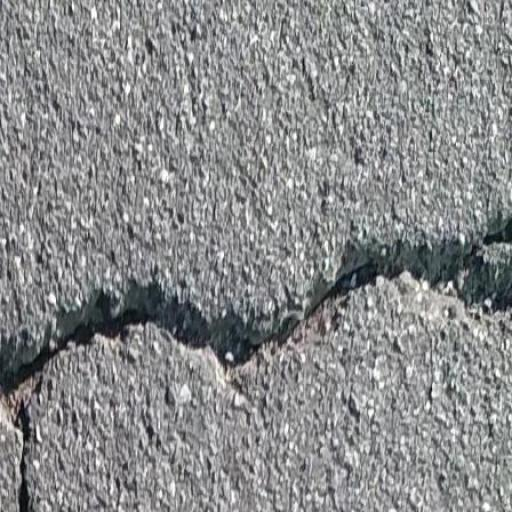spalling: (1, 211, 510, 417)
